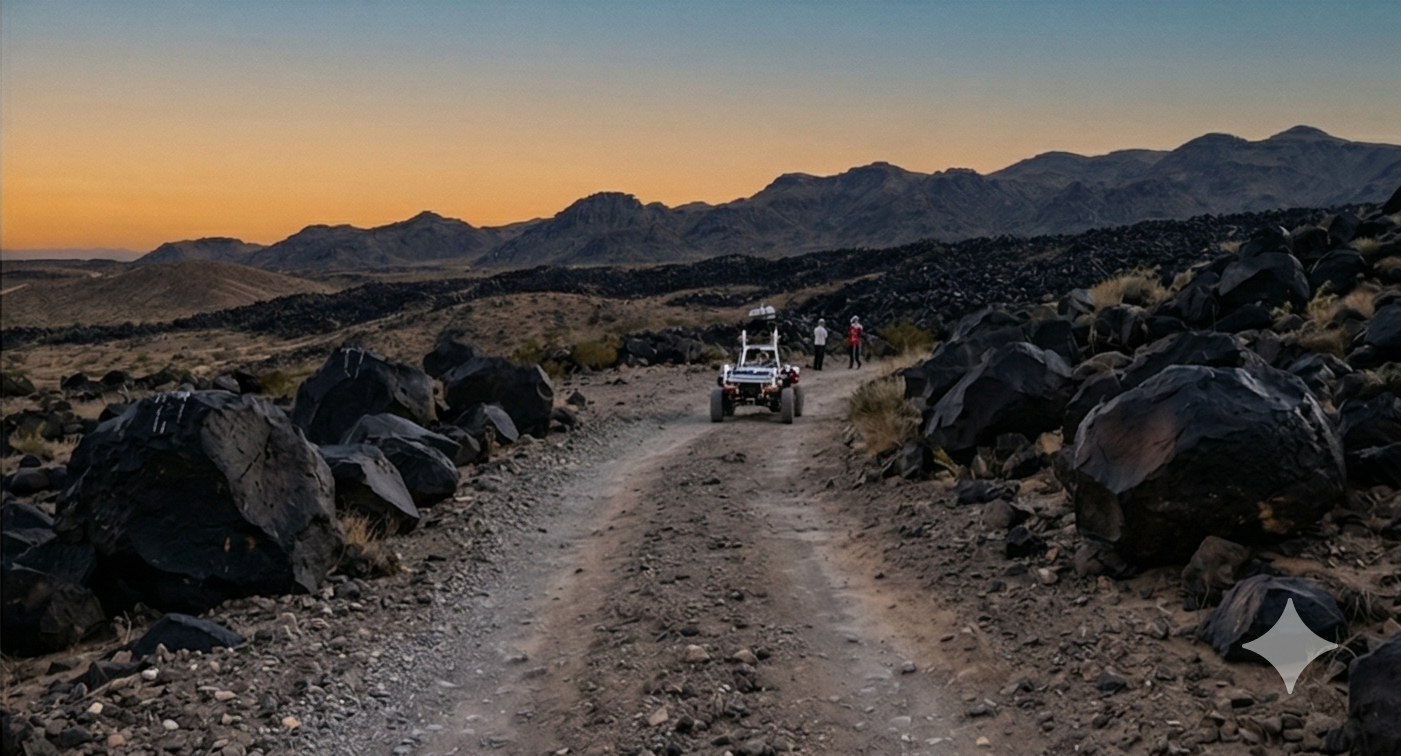rocks: (31, 330, 554, 613), (910, 302, 1400, 565), (1148, 228, 1311, 328)
